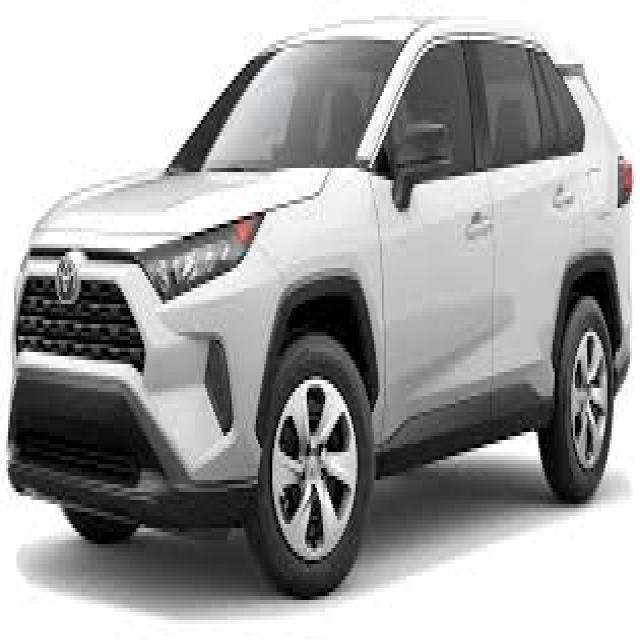light_vehicle: (5, 20, 635, 600)
